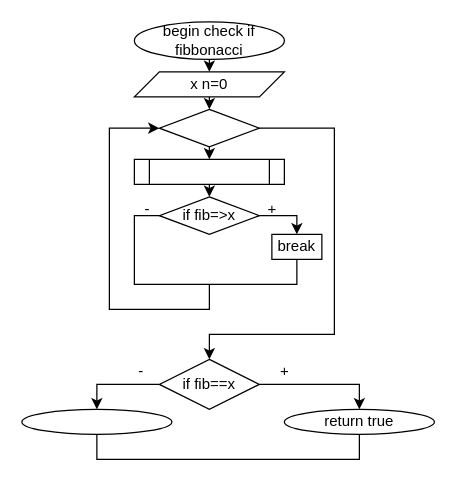
The diagram is 456 pixels wide and 483 high, and some of its shapes have lost their labels. The shapes that lost their labels are listed below. From the top down, each one's centre as x and y in pixels, then its label:
At point 208,127: "while n=>0".
At point 208,171: "fib=-fibbonaci n".
At point 96,421: "return false".
